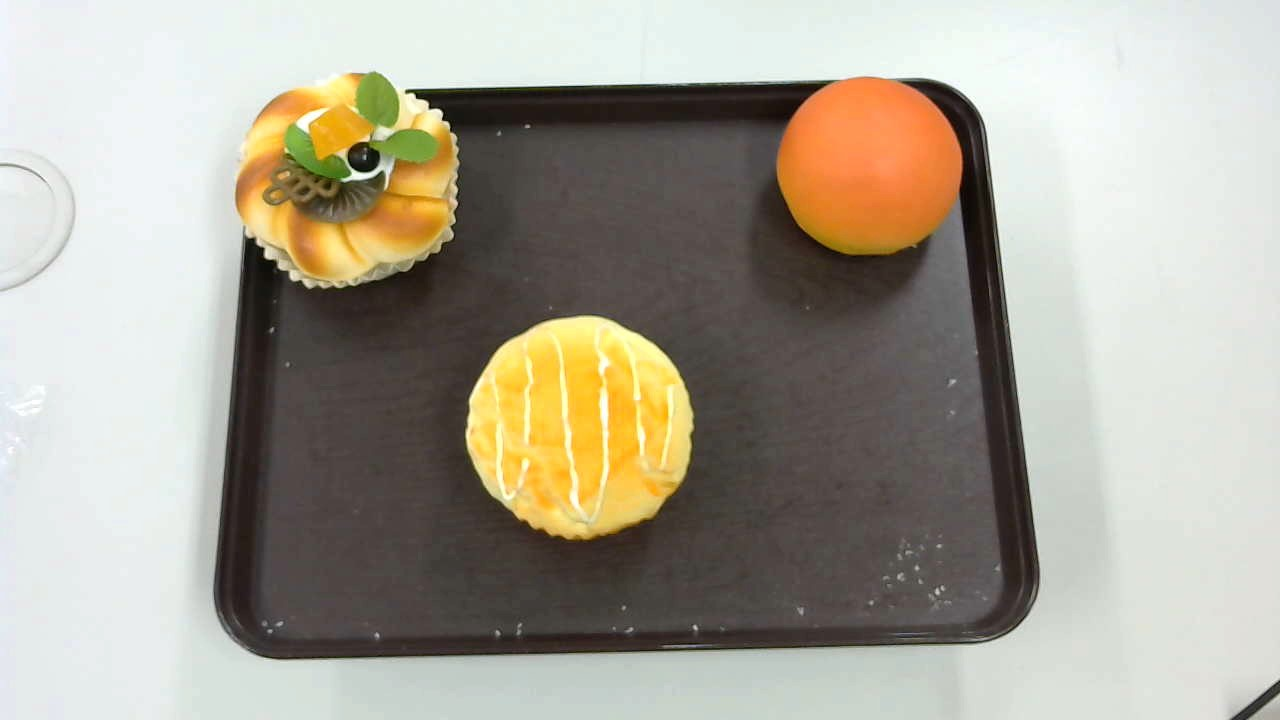bun: (776, 77, 964, 256)
cupcake: (465, 316, 695, 541)
fruit tart: (234, 69, 461, 292)
